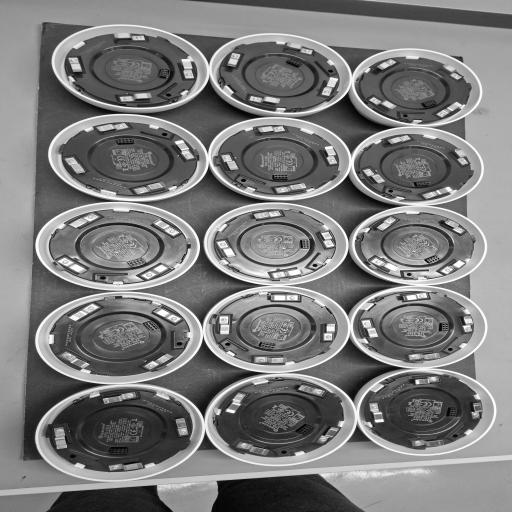konnektor: (282, 59, 305, 70), (294, 423, 312, 437), (126, 257, 148, 268), (444, 407, 462, 420), (142, 321, 160, 333), (109, 446, 130, 456), (270, 172, 290, 182), (114, 138, 135, 147), (257, 342, 279, 350), (424, 255, 442, 264), (413, 180, 431, 188), (299, 239, 312, 250), (436, 322, 450, 332), (158, 68, 172, 78), (422, 99, 438, 107)
yaysiz: (166, 138, 196, 161), (57, 256, 91, 276), (66, 303, 100, 323), (60, 352, 92, 372), (221, 392, 248, 415), (67, 212, 101, 230), (146, 218, 180, 236), (150, 306, 184, 324), (145, 351, 176, 370), (280, 40, 316, 56), (117, 90, 158, 104), (98, 391, 139, 405), (52, 426, 74, 452), (236, 442, 274, 457), (132, 180, 168, 195), (66, 56, 89, 79), (220, 152, 244, 174), (63, 156, 88, 177), (315, 425, 341, 445), (110, 459, 147, 473), (291, 383, 328, 397), (370, 256, 402, 272), (248, 94, 284, 108), (435, 62, 463, 80), (274, 181, 310, 195), (316, 144, 340, 165), (142, 262, 170, 280), (441, 256, 469, 274), (362, 167, 387, 187), (446, 146, 471, 166), (214, 315, 234, 340), (438, 217, 467, 234), (314, 228, 336, 250), (176, 57, 197, 80), (216, 240, 239, 261), (361, 318, 382, 341), (111, 31, 148, 44), (422, 185, 454, 200), (395, 291, 431, 304), (437, 100, 464, 117), (249, 125, 287, 137), (369, 96, 399, 111), (272, 266, 306, 279), (250, 356, 294, 366), (408, 350, 444, 362), (91, 123, 130, 134), (248, 210, 283, 222), (371, 217, 399, 232), (172, 416, 191, 438), (368, 401, 386, 424), (320, 76, 340, 96), (380, 134, 413, 146), (320, 321, 338, 343), (457, 312, 475, 334), (223, 52, 243, 71), (373, 59, 398, 74), (262, 293, 301, 302), (408, 375, 442, 385), (410, 439, 446, 447), (468, 400, 482, 419)
